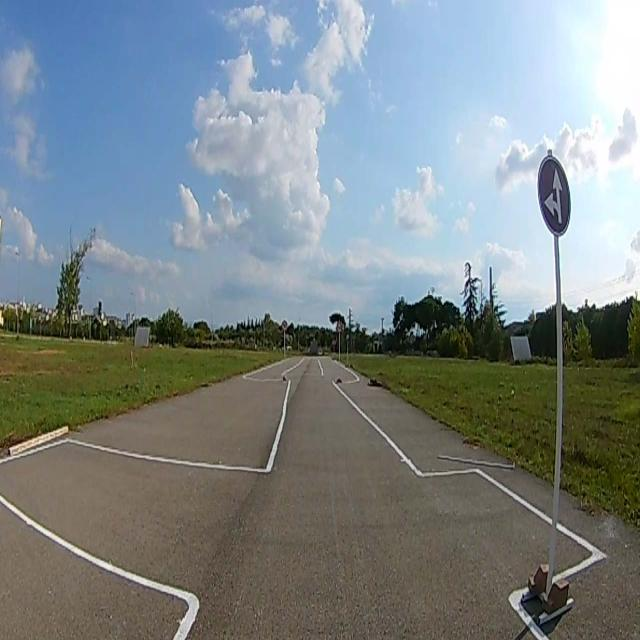ilerisol: (538, 156, 572, 237)
